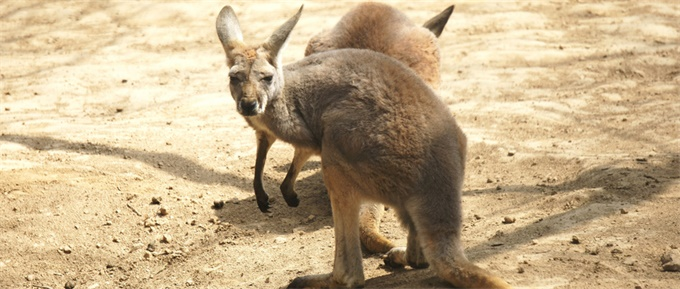kangaroo: (210, 2, 505, 289)
